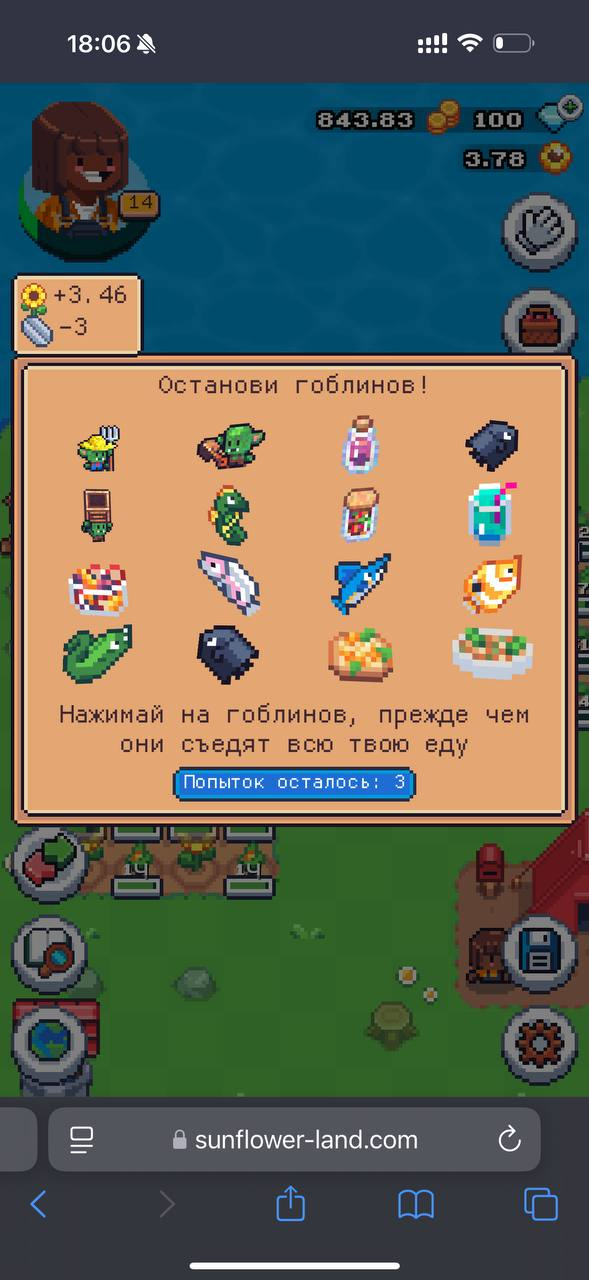capcha_goblin: (196, 420, 268, 471), (75, 423, 120, 472), (78, 489, 114, 542)
